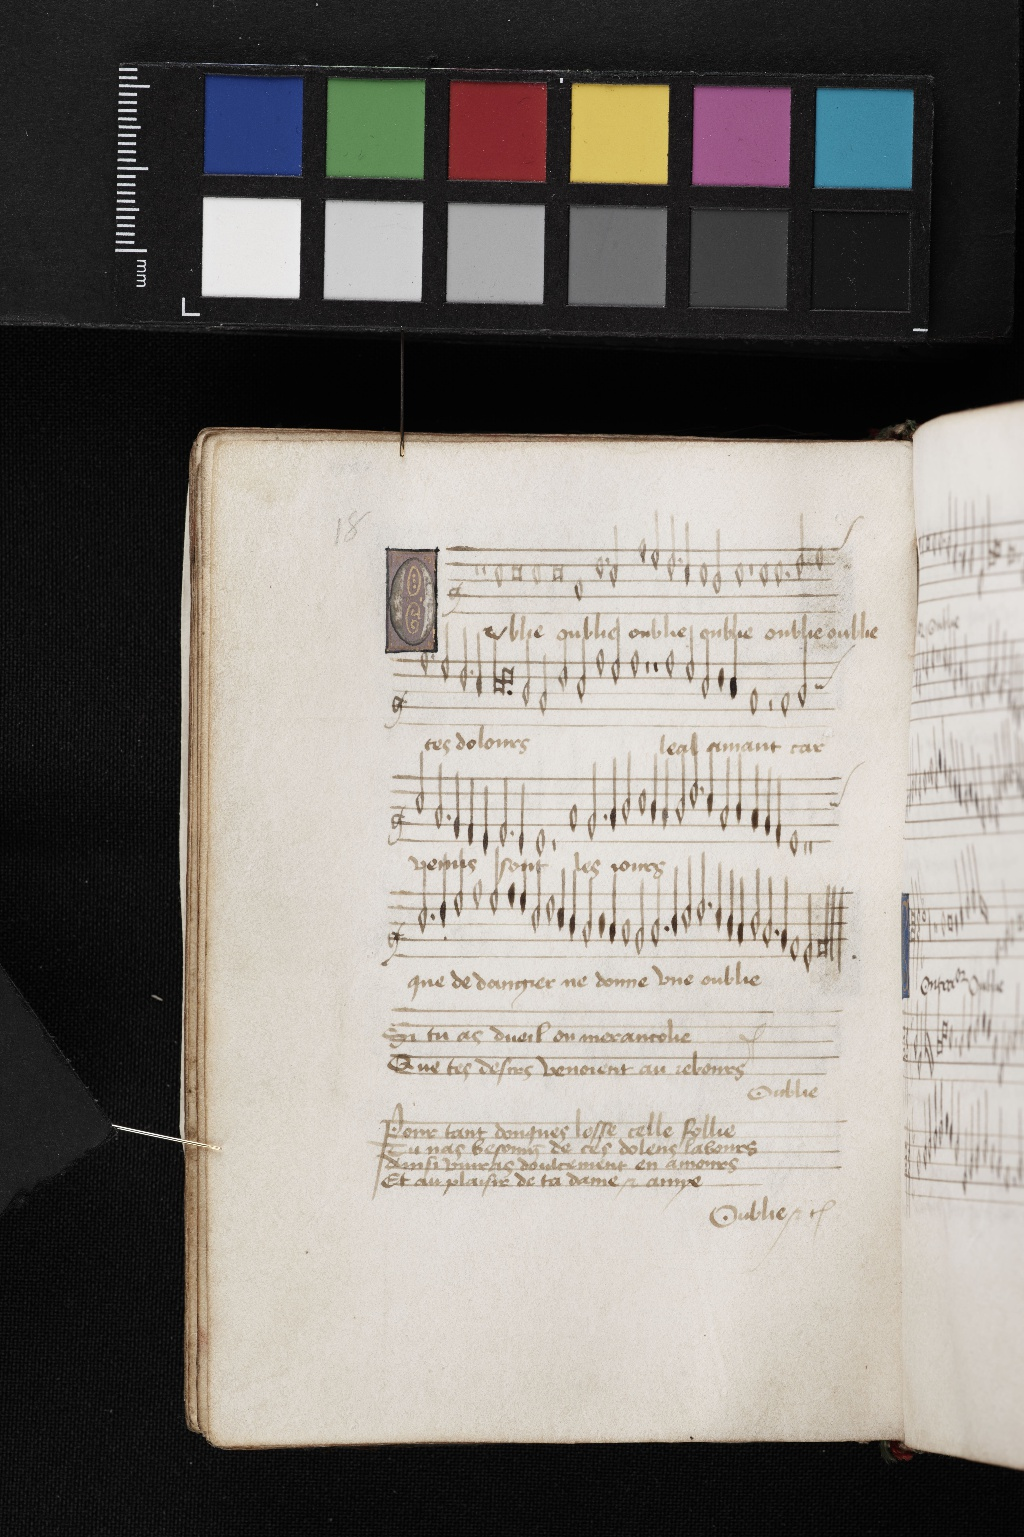barline: (826, 881, 847, 974)
colored semibreve_3: (502, 876, 518, 912)
colored semibreve_7: (592, 906, 608, 943)
g clef_9: (379, 911, 411, 972)
longa_10: (813, 874, 832, 974)
minim_11: (802, 894, 815, 974)
minim_4: (451, 863, 465, 921), (487, 860, 501, 916)
minim_5: (694, 851, 707, 929)
minim_6: (416, 868, 430, 938), (682, 858, 694, 935), (531, 865, 544, 931)
minim_7: (749, 866, 762, 943)
minim_8: (648, 875, 665, 952), (581, 875, 595, 953), (762, 872, 774, 953)
minim_9: (633, 881, 647, 960)
point: (701, 894, 715, 914), (426, 905, 438, 926), (662, 918, 673, 938), (771, 921, 781, 940)
semibreve_10: (789, 928, 805, 967)
semibreve_3: (469, 873, 486, 914)
semibreve_5: (544, 888, 558, 928)
semibreve_8: (619, 911, 634, 952)
semiminim_4: (517, 866, 531, 918)
semiminim_5: (438, 868, 450, 931)
semiminim_6: (713, 864, 725, 935), (555, 867, 567, 932)
semiminim_7: (725, 868, 736, 944), (567, 870, 578, 943), (670, 868, 681, 942)
semiminim_8: (606, 873, 619, 950), (736, 876, 747, 948)
semiminim_9: (779, 876, 791, 956)
